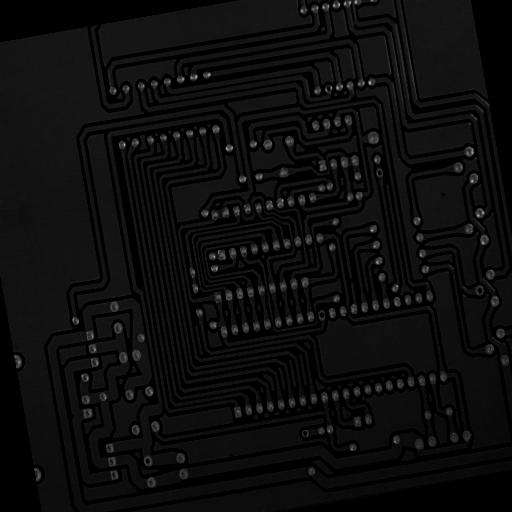missing_hole: (474, 283, 486, 297), (142, 454, 154, 468), (322, 83, 334, 94), (374, 167, 385, 178), (316, 308, 326, 320), (300, 428, 310, 438)
